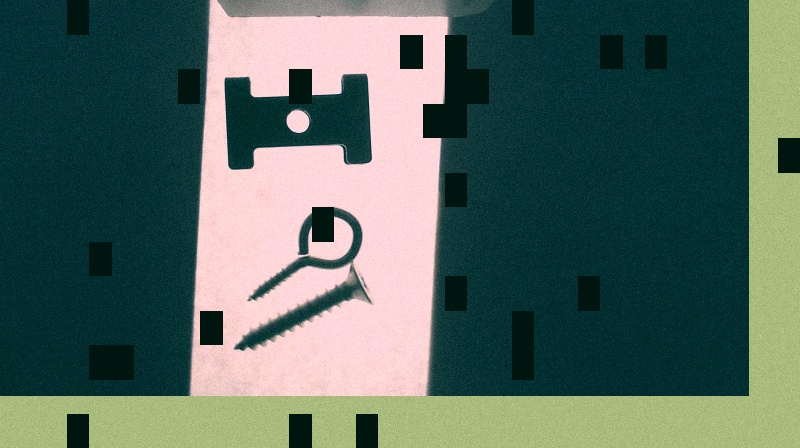O001: (244, 205, 364, 303)
O002: (221, 71, 373, 169)
S001: (228, 261, 375, 353)
